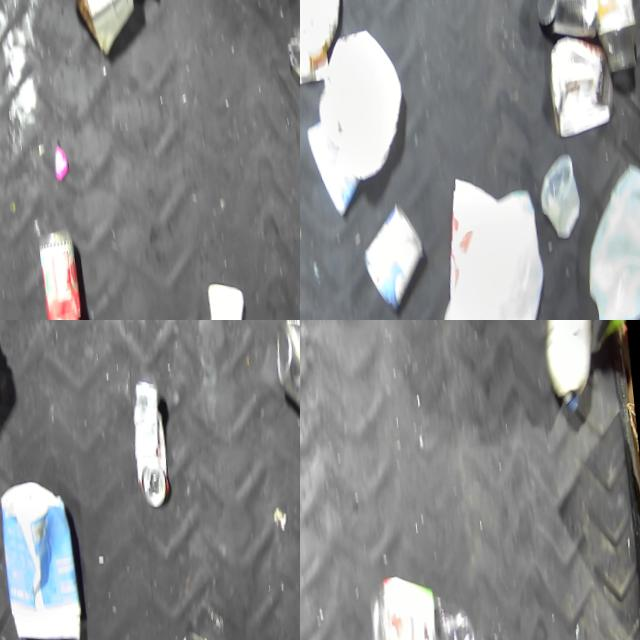can: (357, 197, 432, 315), (544, 32, 618, 142), (125, 375, 175, 508), (268, 320, 300, 434), (530, 0, 603, 47)
milk_jug: (426, 184, 558, 320), (575, 157, 640, 320)
plastic_bottle: (357, 565, 500, 640)
